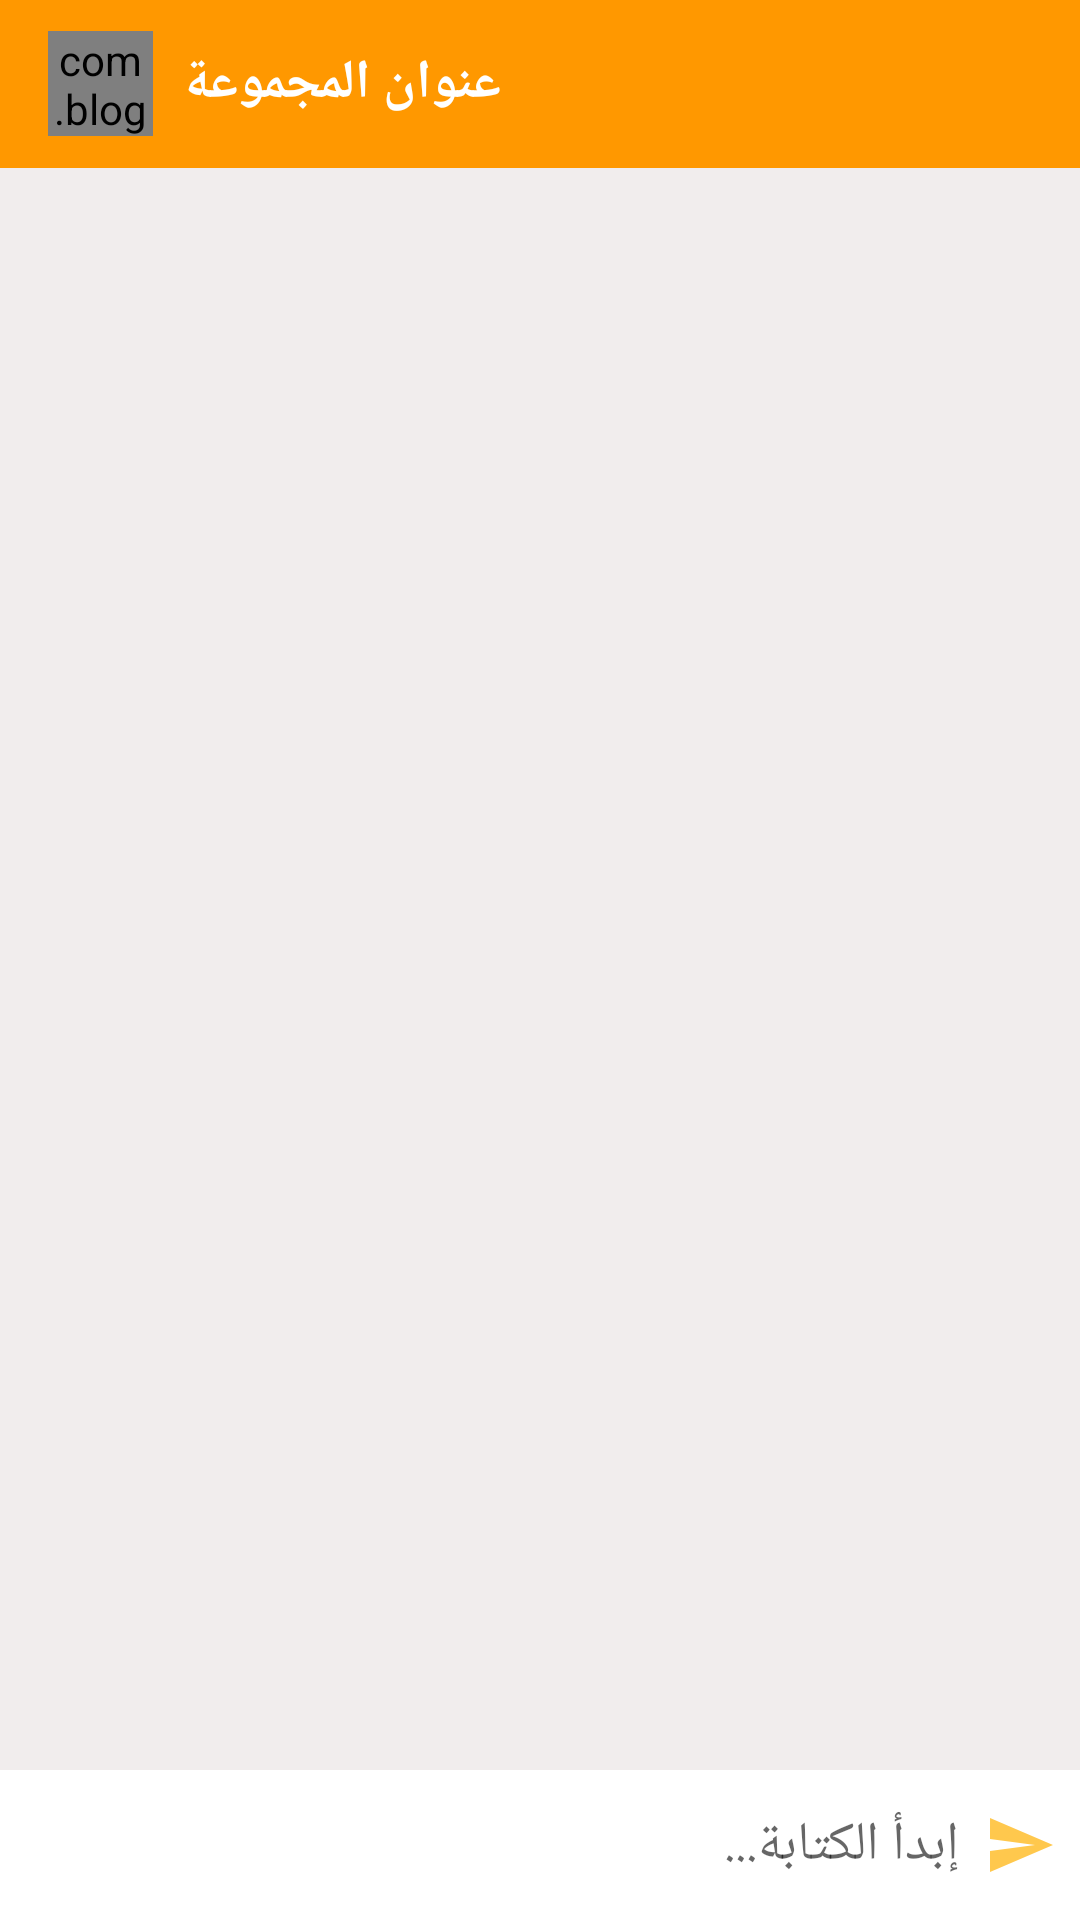

Locate icon controls on the screen. Image size 1080px x 1920px, boxes as (x1, y1, x2, y2).
send: (990, 1818, 1053, 1872)
